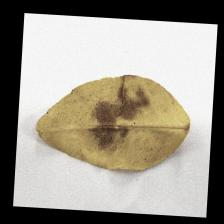canker: (71, 75, 155, 146)
